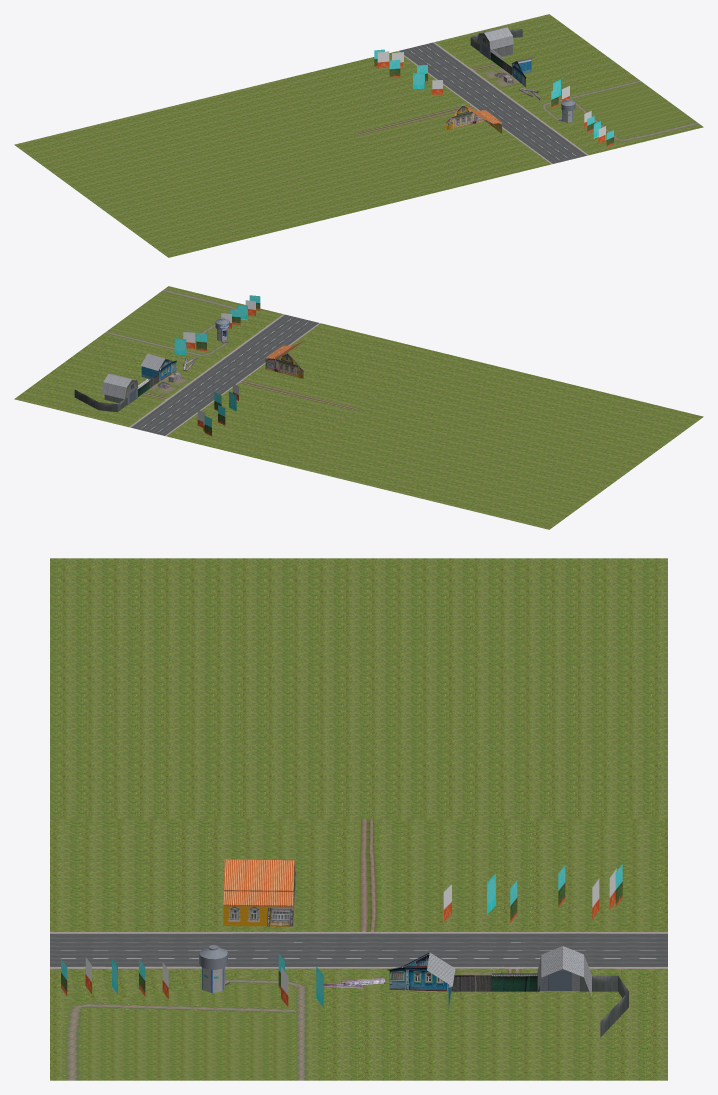
The model's file is Area1.FBX.
3 renders of one model, top to bottom at view 1: azimuth 30°, elevation 25°; view 2: azimuth 150°, elevation 25°; view 3: azimuth 270°, elevation 25°, orthographic. The views are drawn at different scales.
Parts seen in each view (by area): view 1: grassOnly, road, foliage, map, teremki; view 2: grassOnly, road, foliage, map, teremki; view 3: grassOnly, road, teremki, map, foliage, vamin.
Part boxes in pixels (x1,y1,x2,y2): grassOnly: [14, 79, 435, 257]; road: [282, 14, 703, 192]; foliage: [374, 49, 613, 147]; map: [470, 27, 522, 75]; teremki: [445, 57, 535, 133]; grassOnly: [282, 351, 703, 529]; road: [14, 286, 435, 464]; foliage: [174, 295, 260, 436]; map: [74, 374, 159, 412]; teremki: [140, 340, 304, 381]; grassOnly: [50, 558, 667, 819]; road: [50, 819, 667, 1080]; teremki: [223, 859, 455, 1008]; map: [451, 946, 628, 1037]; foliage: [61, 864, 622, 1007]; vamin: [199, 945, 229, 992].
Bounding box in the file's own units: 24000 × 1021 × 12000.
